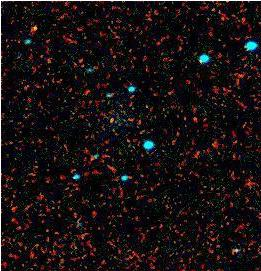star: (19, 14, 49, 44)
